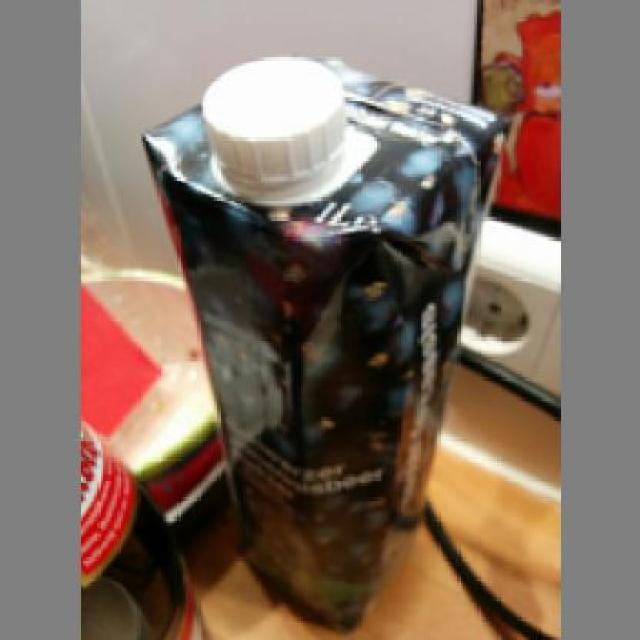Juice: (134, 49, 506, 626)
